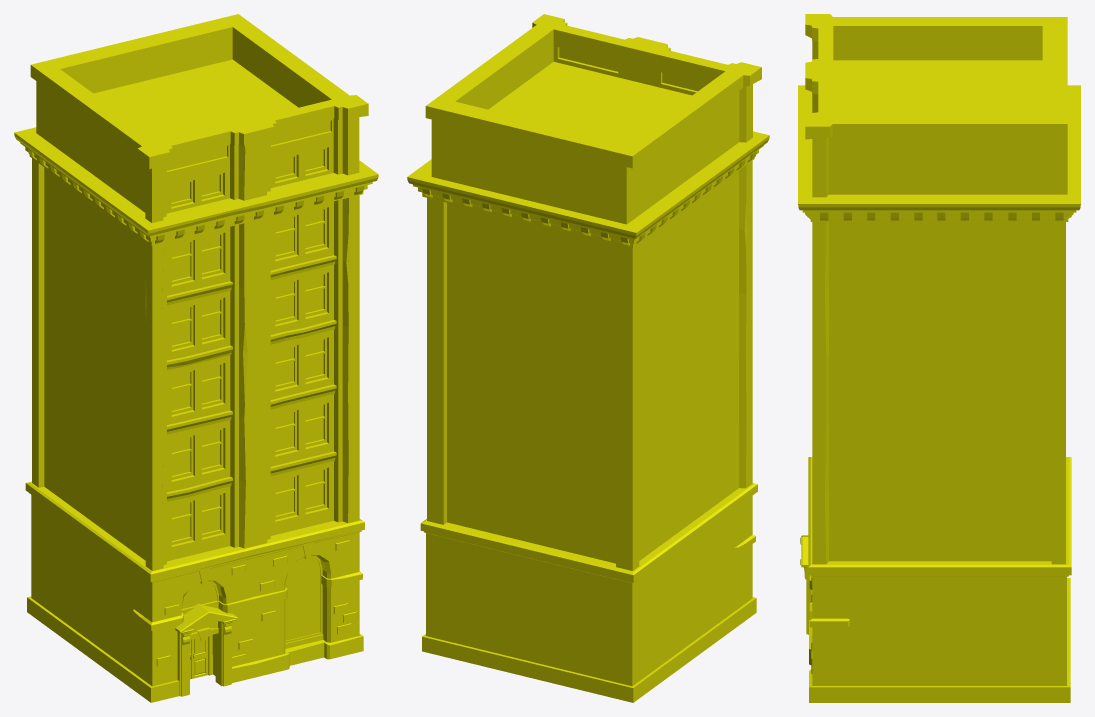
Rendered from cty_off2.glb.
The picture shows the model from 3 angles, left to right: view 1: azimuth 30°, elevation 25°; view 2: azimuth 150°, elevation 25°; view 3: azimuth 270°, elevation 25°; orthographic projection. The views are drawn at different scales.
Parts seen in each view (by area): view 1: SM_Bld_OfficeOld_Small_02; view 2: SM_Bld_OfficeOld_Small_02; view 3: SM_Bld_OfficeOld_Small_02.
Part boxes in pixels (x1=…): SM_Bld_OfficeOld_Small_02: x1=14, y1=14, x2=378, y2=702; SM_Bld_OfficeOld_Small_02: x1=407, y1=14, x2=769, y2=702; SM_Bld_OfficeOld_Small_02: x1=798, y1=14, x2=1080, y2=702.
Bounding box in the file's own units: 0.1112 × 0.2525 × 0.112.
Materials: 1 (1 with a texture image).
